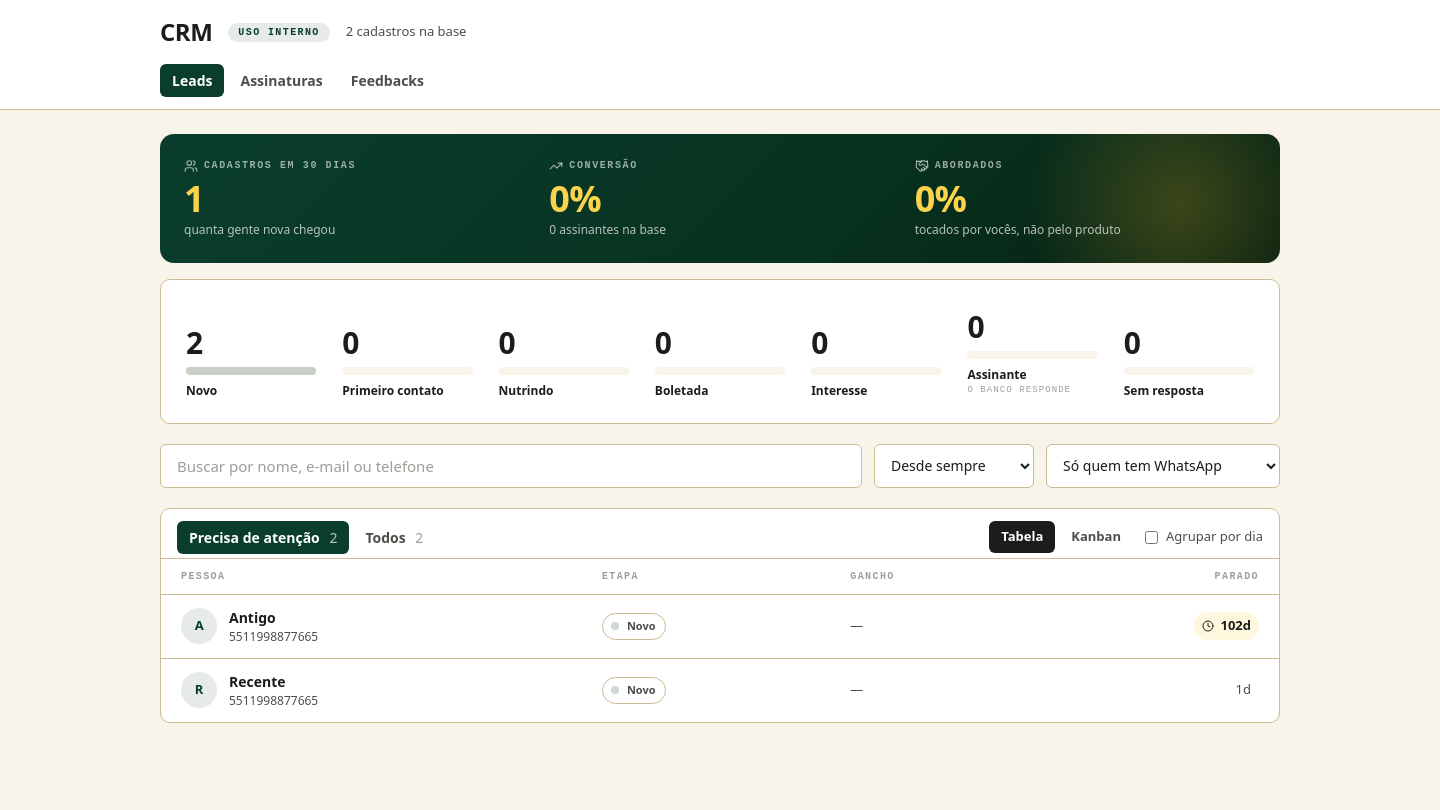
PainelCrm · o filtro de data › os últimos sete dias deixam só quem chegou agora
Select "Últimos 7 dias" in the dropdown named "Período de cadastro". click: x=954, y=466
box: [874,444,1034,488]
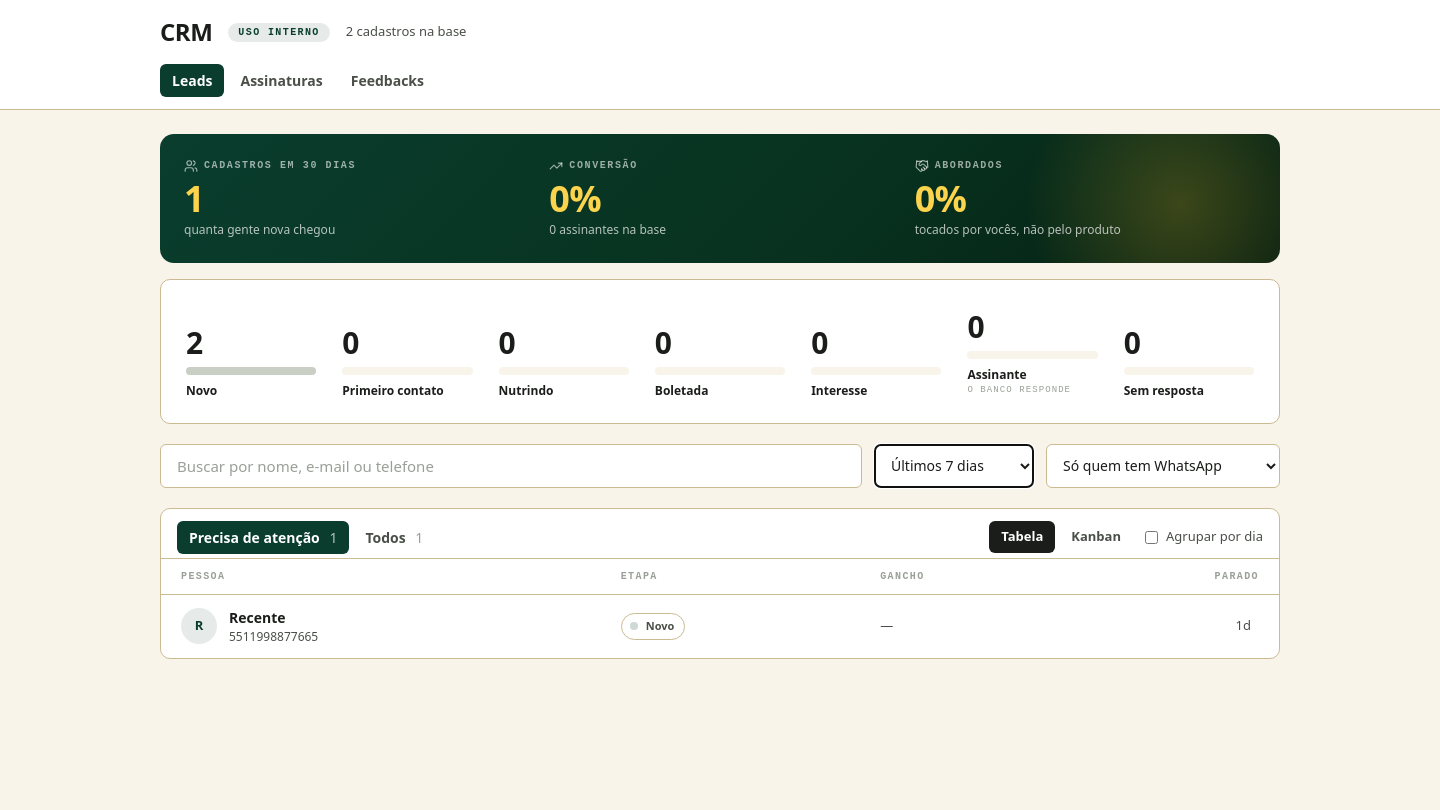
Expected: the link "Recente" is shown, [229,606,286,628]
Expected: the link "Antigo" is gone
